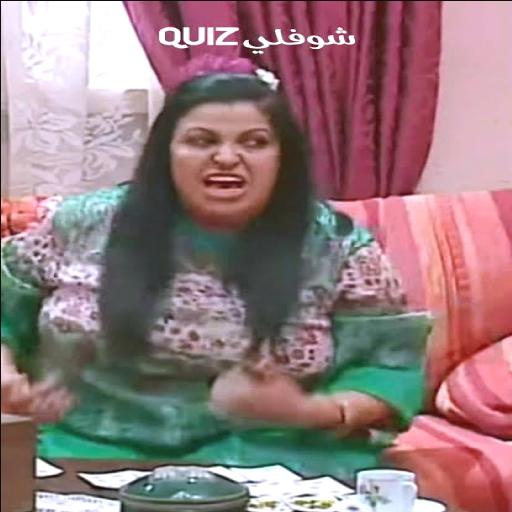jannet: (170, 100, 279, 227)
